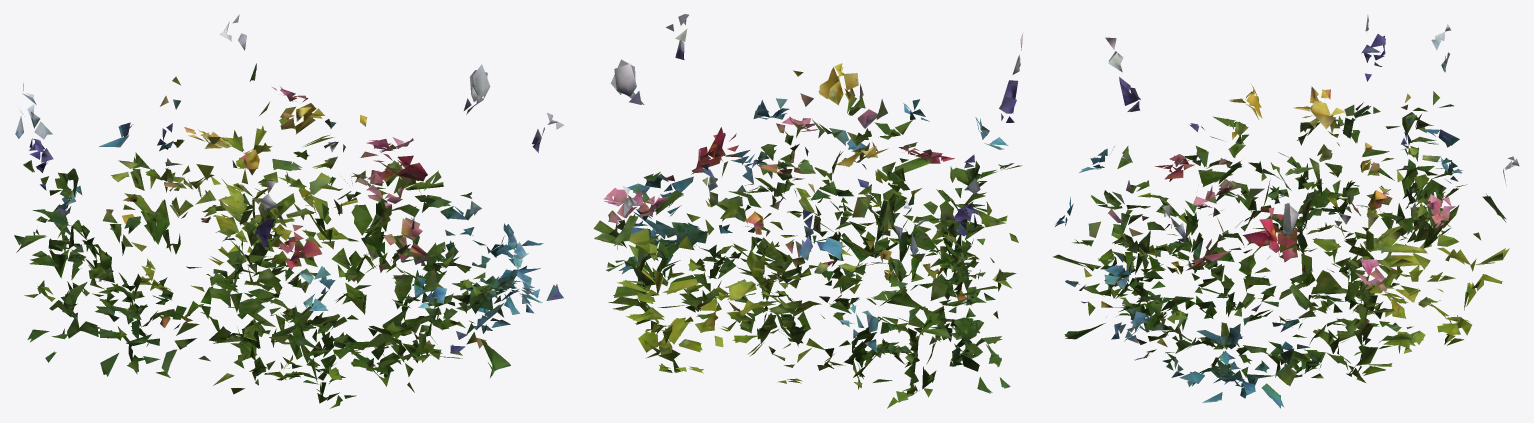
The model's file is wildflowers.glb.
3 renders of one model, left to right at view 1: azimuth 30°, elevation 25°; view 2: azimuth 150°, elevation 25°; view 3: azimuth 270°, elevation 25°, orthographic. The views are drawn at different scales.
Visible parts, largest first — view 1: Mesh_0; view 2: Mesh_0; view 3: Mesh_0.
Part boxes in pixels (bbox=[...]): Mesh_0: bbox=[14, 14, 564, 408]; Mesh_0: bbox=[593, 14, 1023, 408]; Mesh_0: bbox=[1053, 15, 1519, 408].
Size of the model in its own units: 1.03 by 0.58 by 1.02.
1 material, 1 textured.
